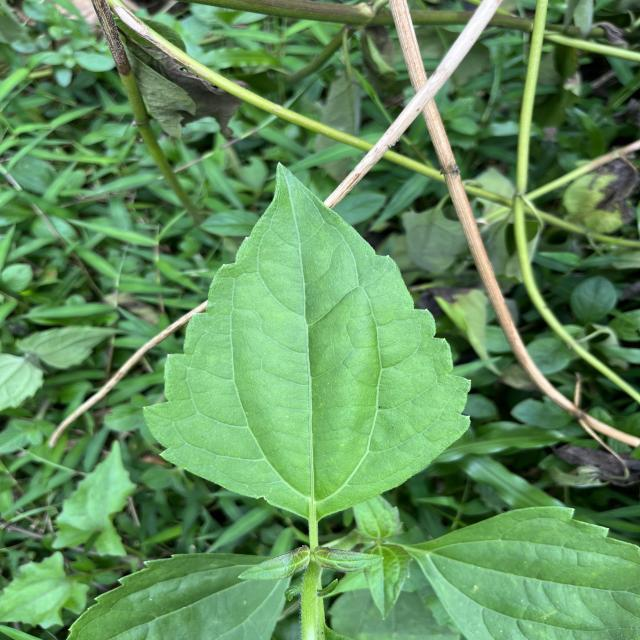Chromolaena odorata: (136, 154, 478, 521)
